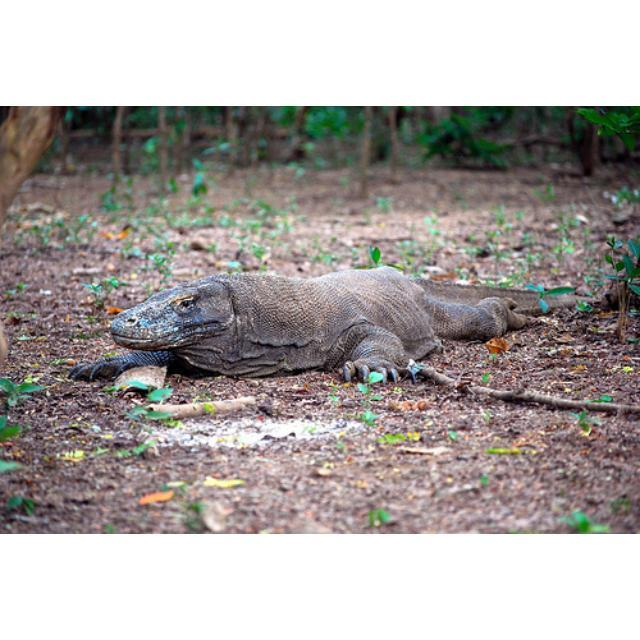KomodoDragon: (107, 268, 602, 380)
